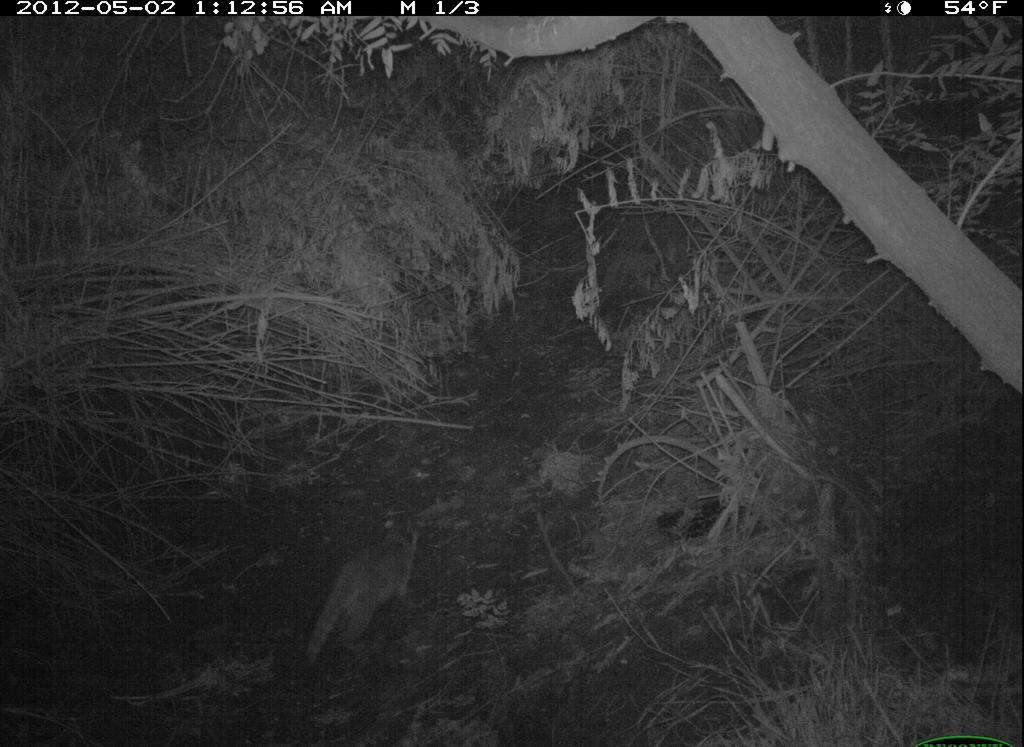raccoon: (300, 523, 438, 689)
